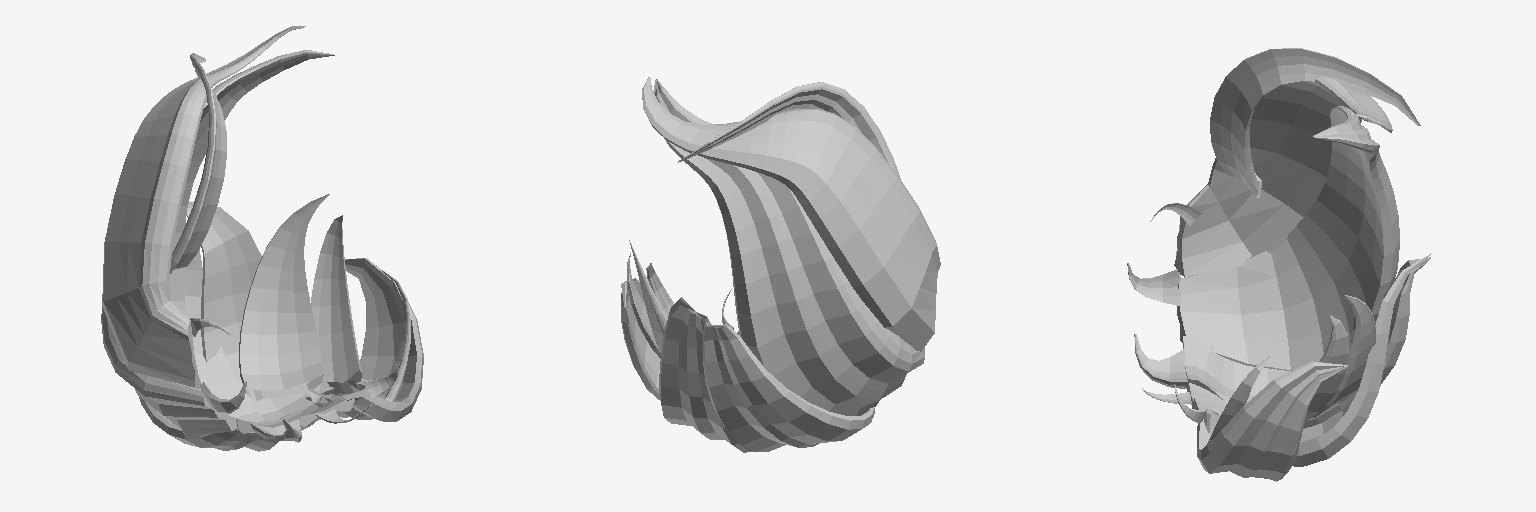
The model's file is hair_run0010.obj.
3 views of the same model, side by side, from view 1: azimuth 30°, elevation 25°; view 2: azimuth 150°, elevation 25°; view 3: azimuth 270°, elevation 25° (orthographic).
Visible parts, largest first — view 1: NurbsPath.012; view 2: NurbsPath.012; view 3: NurbsPath.012.
Part boxes in pixels (x1,y1,x2,y2): NurbsPath.012: (101,26,423,451); NurbsPath.012: (621,77,940,452); NurbsPath.012: (1127,48,1431,481).
Bounding box in the file's own units: 0.5871 × 0.7097 × 0.5237.